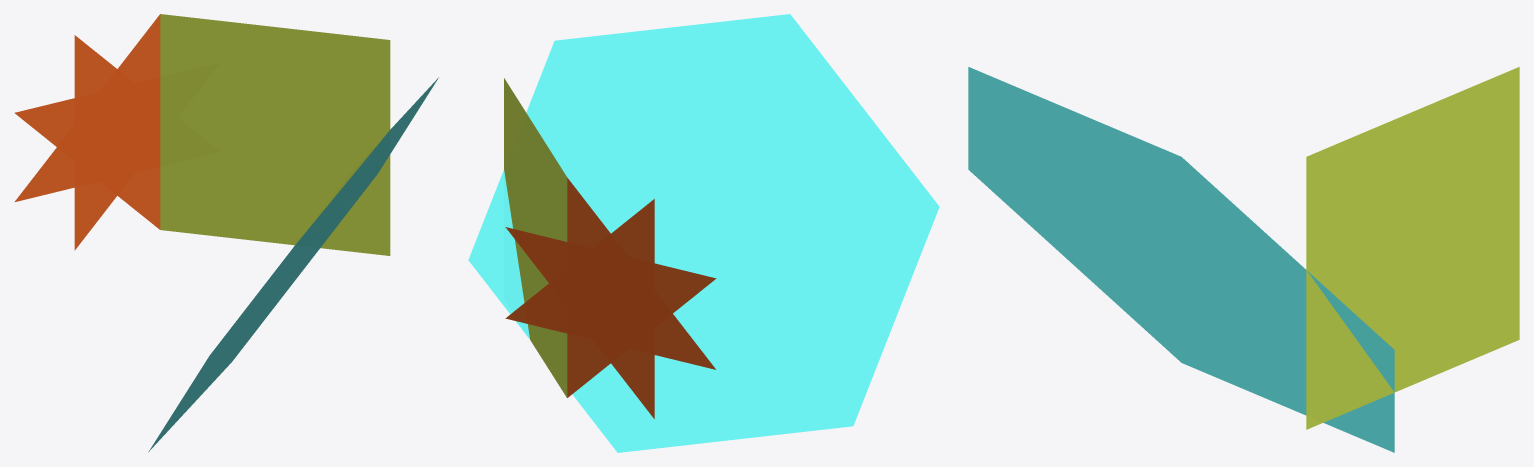
The model's file is GreatTruncatedCuboctahedronF.obj.
3 views of the same model, side by side, from view 1: azimuth 30°, elevation 25°; view 2: azimuth 150°, elevation 25°; view 3: azimuth 270°, elevation 25° (orthographic). The views are drawn at different scales.
Size of the model in its own units: 1.41 by 1.41 by 1.83.
